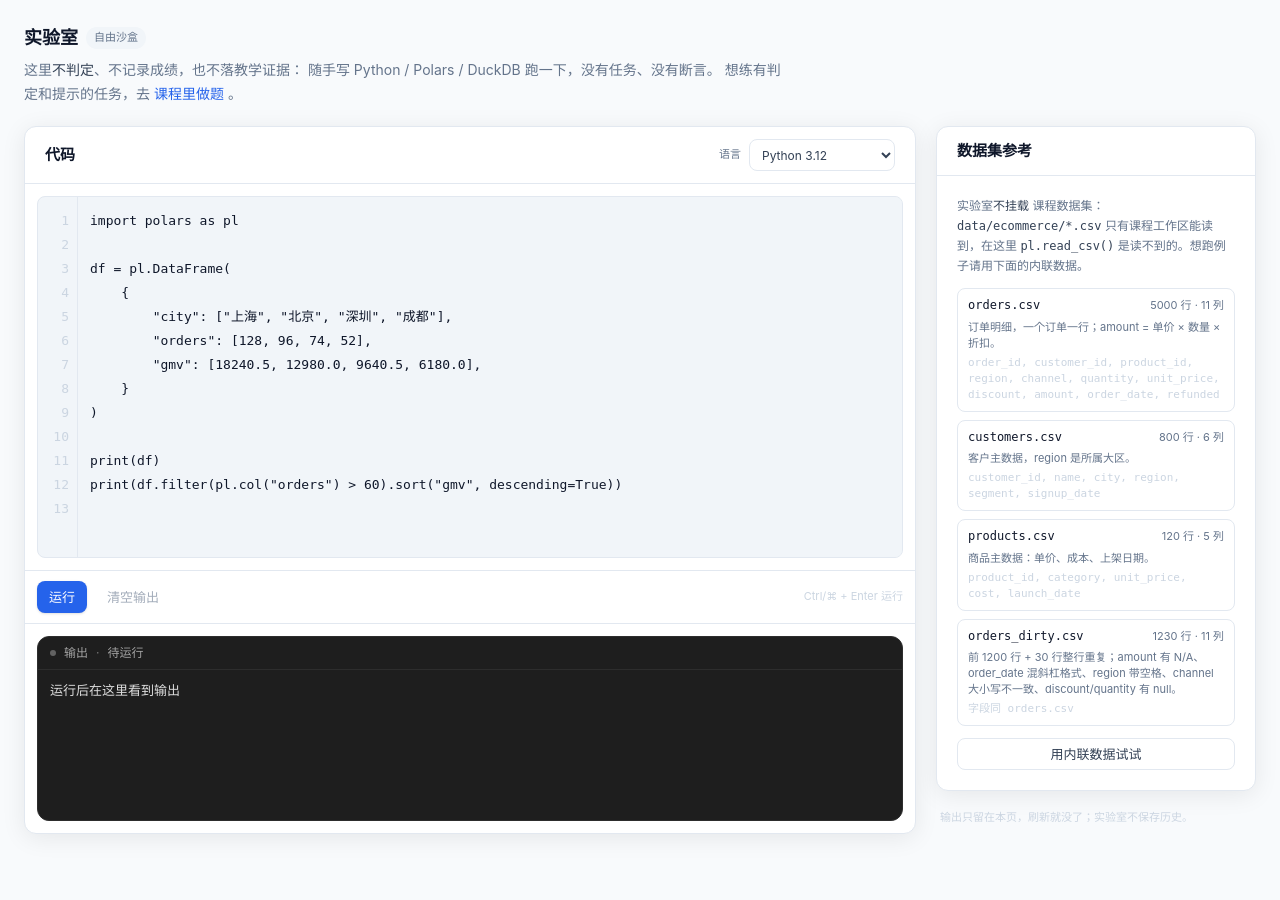
Scenario: Lab 实验室页面 › 无输出时显示占位提示，清空输出后回到占位
Click the button "运行".
click(62, 597)  # box [37,581,87,613]
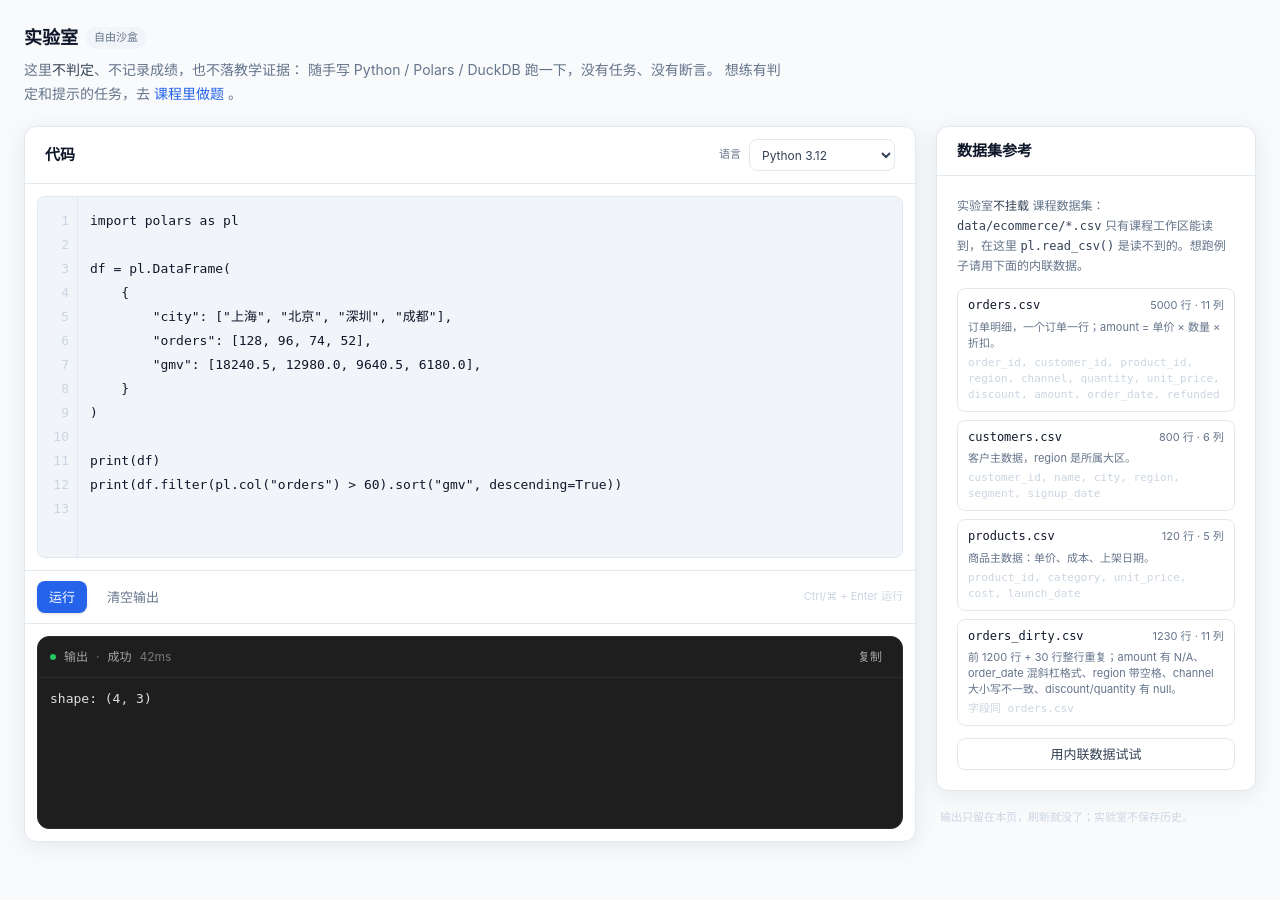
Check: the text "shape: (4, 3)" is shown, box [50,691,152,706]
Click the button "清空输出".
click(133, 597)  # box [95,581,171,613]
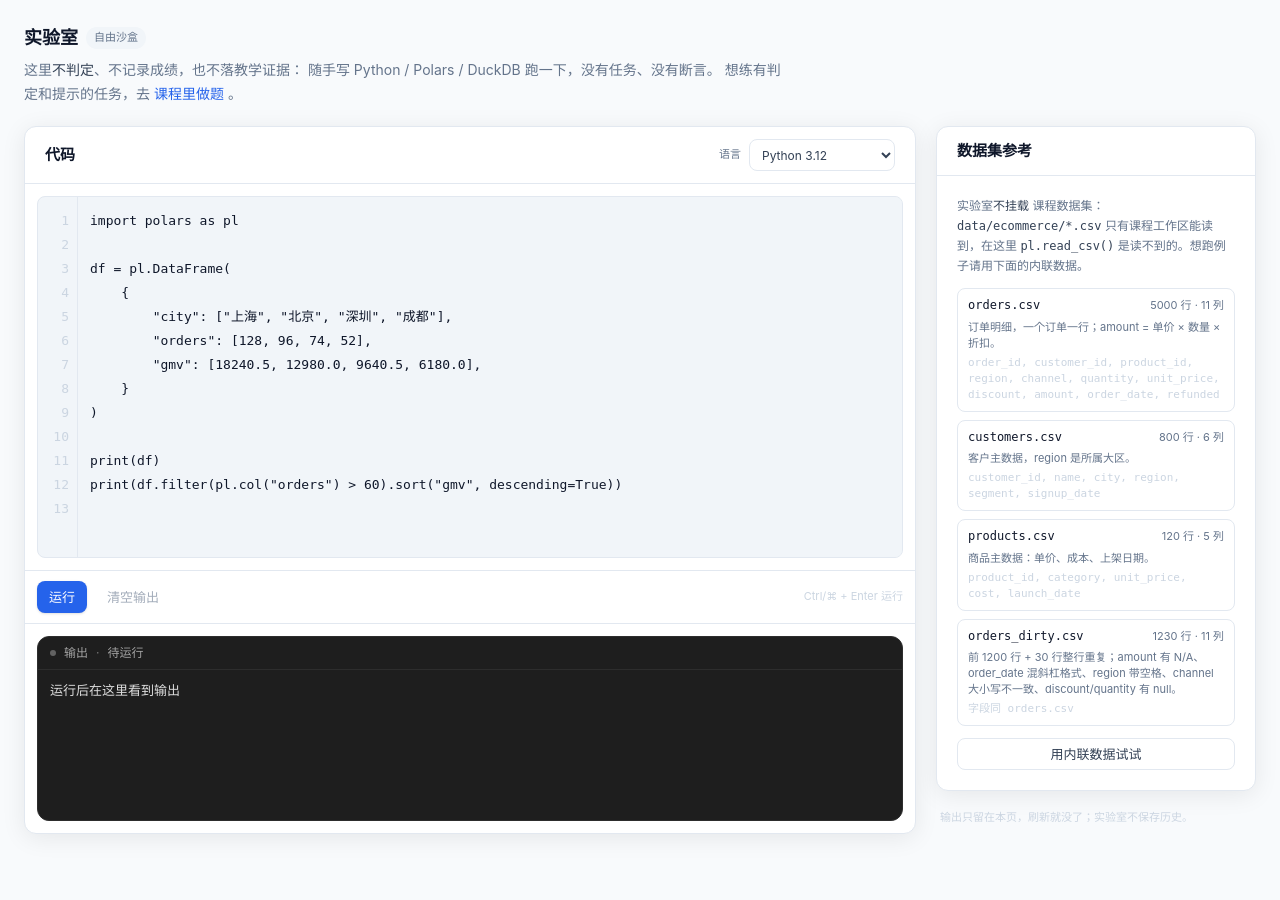
Check: the text "shape: (4, 3)" is gone
Check: the text "运行后在这里看到输出" is shown, box [50,683,180,698]
